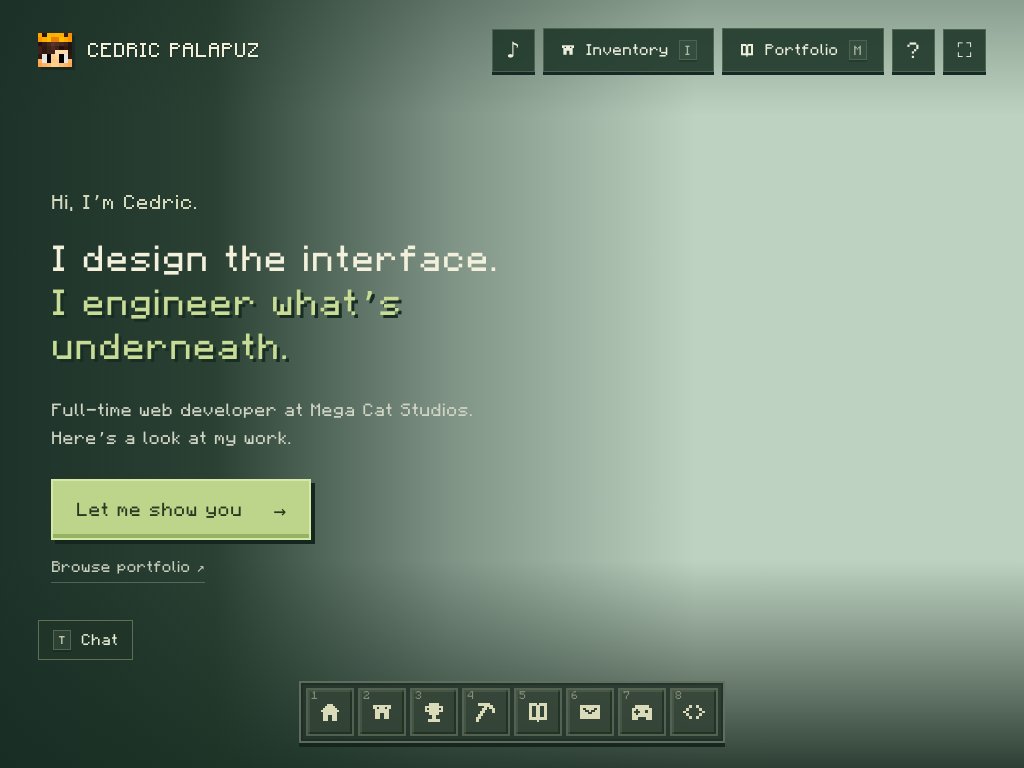
Scenario: introduces Cedric and keeps the pause screen minimal
Expected: the heading "I design the interface.I engineer what’s underneath." is shown, [51,237,532,370]
Click the button "Let me show you →" at [181, 510], box [51,479,311,540]
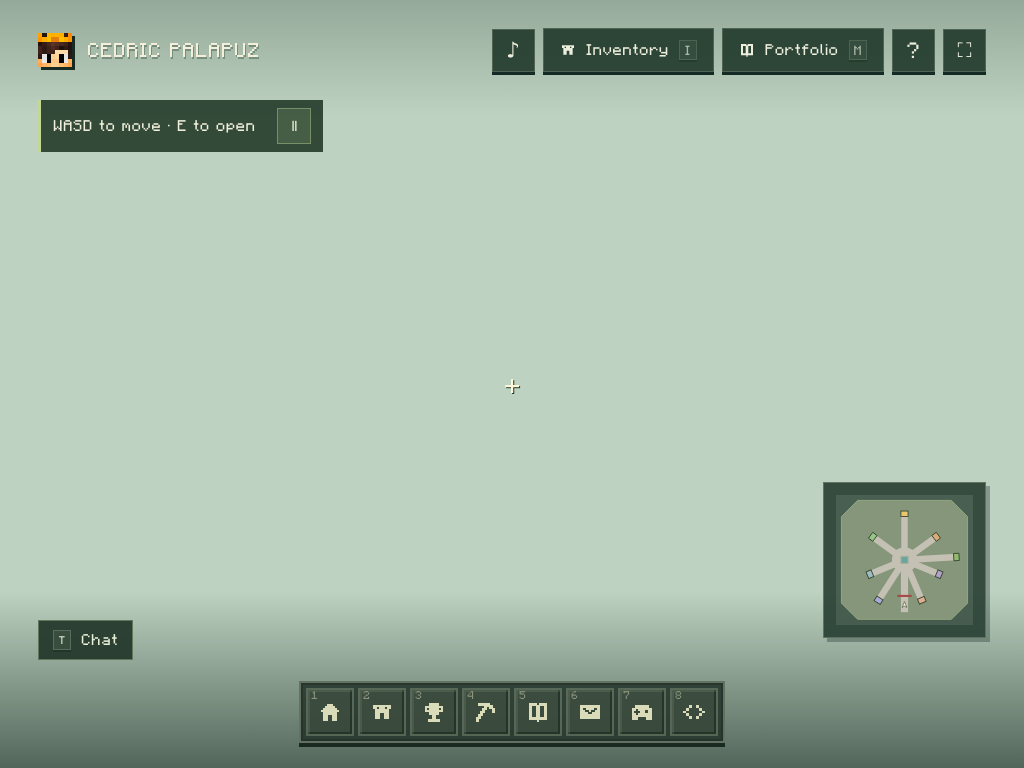
Click the button named "Pause" at [294, 126], box [277,108,311,144]
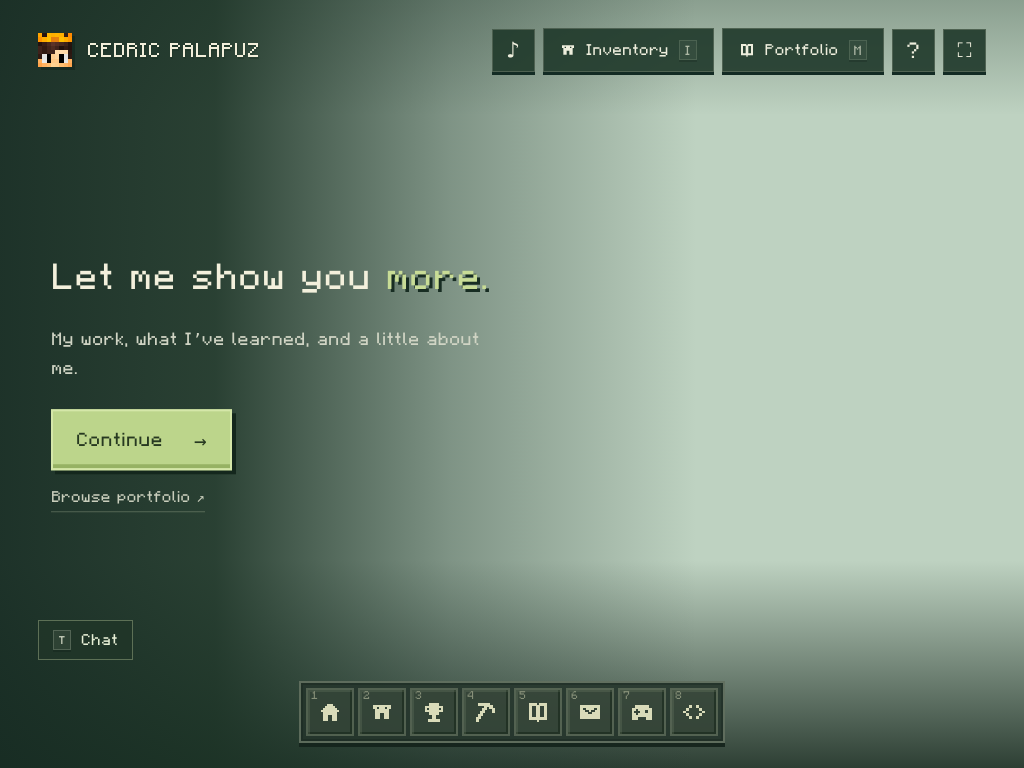
Now the button "Continue →" is shown, box [51,409,232,470]
Now the heading "Let me show you more." is shown, box [51,255,532,300]
